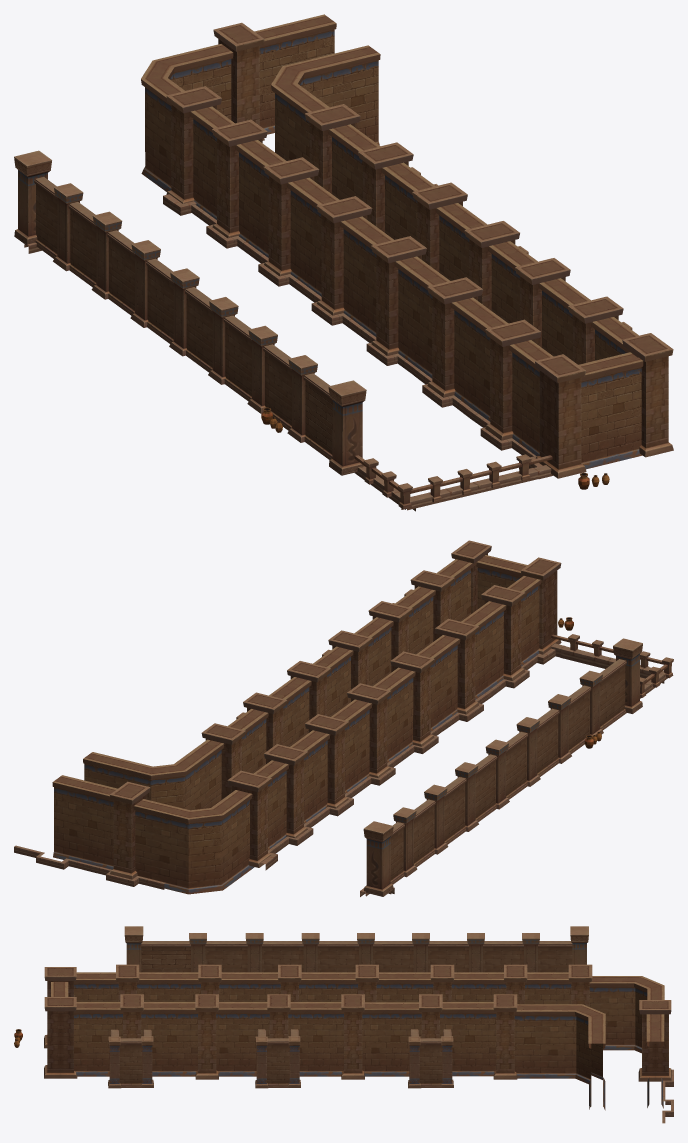
The model's file is Area_08_15.fbx.
3 views of the same model, one above another, from view 1: azimuth 30°, elevation 25°; view 2: azimuth 150°, elevation 25°; view 3: azimuth 270°, elevation 25° (orthographic). The views are drawn at different scales.
Parts seen in each view (by area): view 1: Area_08_15; view 2: Area_08_15; view 3: Area_08_15.
Part boxes in pixels (x1,y1,x2,y2): Area_08_15: (14, 14, 673, 511); Area_08_15: (14, 540, 673, 896); Area_08_15: (14, 926, 673, 1123).
Bounding box in the file's own units: 3309 × 818 × 6358.
